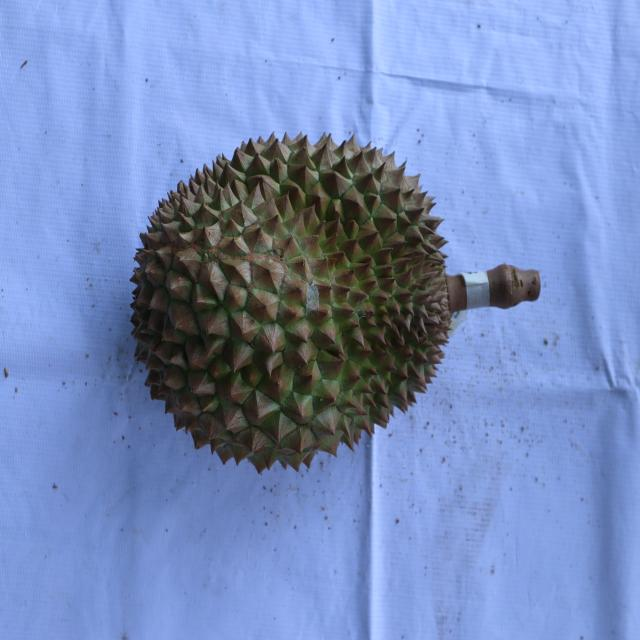mature: (128, 129, 456, 481)
